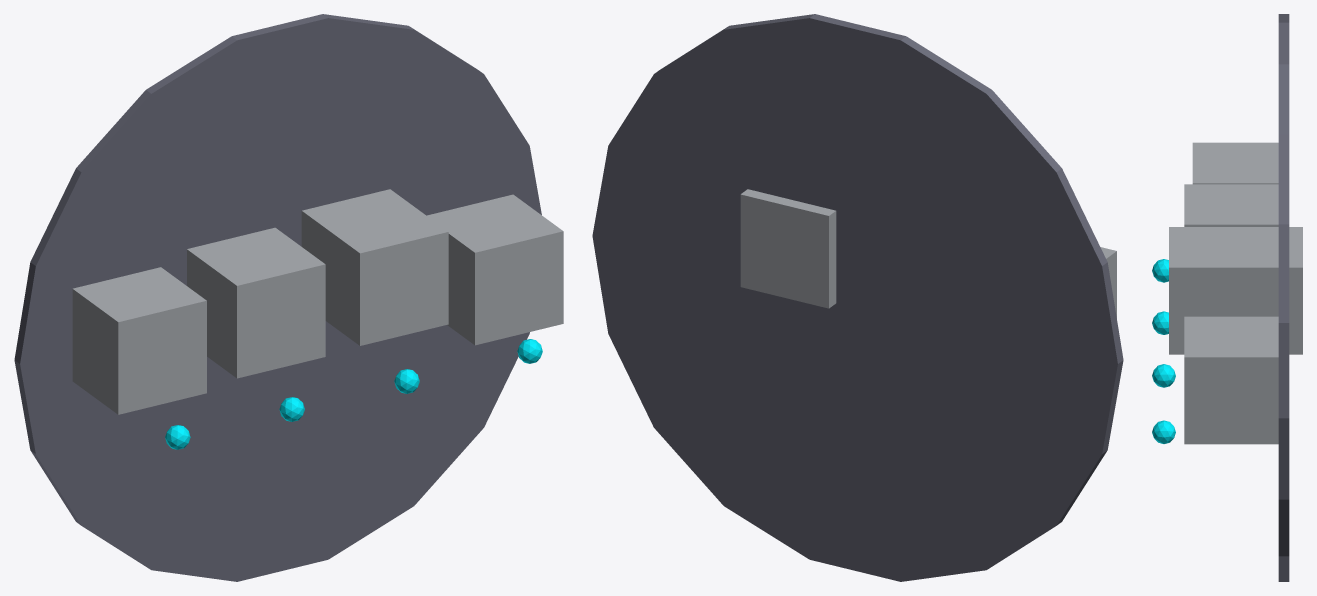
The model's file is 02_local_prop_cluster.glb.
The picture shows the model from 3 angles, left to right: view 1: azimuth 30°, elevation 25°; view 2: azimuth 150°, elevation 25°; view 3: azimuth 270°, elevation 25°; orthographic projection. The views are drawn at different scales.
Visible parts, largest first — view 1: scatter_base, tech_crate_2, tech_crate_0, tech_crate_1, tech_crate_3; view 2: scatter_base, tech_crate_2; view 3: tech_crate_2, tech_crate_3, scatter_base, tech_crate_1, tech_crate_0, status_light_2, status_light_3, status_light_0, status_light_1.
Boxes of the visible parts, x1,y1,x2,y2 form: scatter_base: (14, 14, 541, 581); tech_crate_2: (301, 189, 448, 345); tech_crate_0: (72, 267, 206, 414); tech_crate_1: (187, 227, 325, 378); tech_crate_3: (427, 194, 563, 345); scatter_base: (592, 14, 1123, 581); tech_crate_2: (740, 189, 836, 308); tech_crate_2: (1169, 227, 1302, 354); tech_crate_3: (1184, 316, 1278, 444); scatter_base: (1278, 14, 1289, 581); tech_crate_1: (1184, 184, 1278, 226); tech_crate_0: (1192, 142, 1278, 184); status_light_2: (1152, 364, 1175, 387); status_light_3: (1152, 420, 1175, 443); status_light_0: (1152, 259, 1168, 282); status_light_1: (1152, 311, 1168, 334).
Bounding box in the file's own units: 1.9 × 1.87 × 0.5031.
